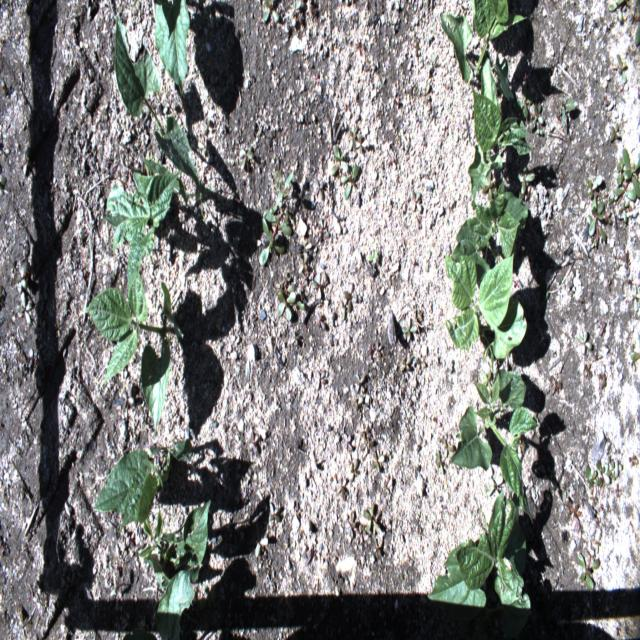crop: (82, 264, 184, 436), (426, 489, 530, 636), (114, 15, 200, 189), (450, 368, 540, 526), (102, 156, 188, 298), (136, 499, 211, 639), (444, 254, 526, 372), (439, 0, 526, 110), (94, 438, 193, 534), (450, 180, 527, 286), (469, 85, 533, 204), (152, 0, 190, 95), (121, 624, 157, 639)
weed: (259, 171, 293, 265), (608, 147, 640, 222), (277, 274, 305, 320), (585, 460, 610, 506), (184, 181, 210, 225), (578, 545, 600, 589), (587, 174, 608, 213), (587, 202, 607, 241), (557, 96, 578, 131), (340, 162, 359, 198), (362, 502, 382, 536), (518, 159, 534, 200), (341, 282, 358, 320), (516, 83, 534, 118), (558, 490, 582, 516), (484, 473, 504, 502), (331, 143, 348, 176), (239, 145, 256, 174), (610, 54, 626, 84), (630, 0, 640, 46), (402, 316, 418, 342), (262, 0, 280, 23), (348, 125, 362, 154), (360, 430, 374, 458), (530, 102, 544, 130), (576, 330, 592, 354), (482, 168, 494, 200), (254, 530, 268, 557), (371, 449, 385, 475), (608, 0, 624, 22), (606, 461, 622, 482), (289, 0, 301, 27), (344, 511, 356, 537), (311, 271, 321, 301), (440, 435, 453, 458), (548, 374, 562, 395), (482, 369, 493, 395), (269, 502, 281, 524), (298, 248, 308, 274), (609, 121, 621, 142), (354, 372, 365, 394), (411, 190, 422, 212), (349, 457, 358, 482), (436, 449, 444, 477), (316, 370, 327, 390), (314, 310, 325, 330), (596, 364, 606, 386), (632, 285, 640, 312), (621, 250, 630, 274), (399, 356, 412, 372), (630, 352, 640, 372), (602, 209, 613, 227), (343, 432, 353, 451), (612, 246, 620, 268), (368, 248, 378, 265), (374, 338, 382, 358), (422, 84, 430, 103), (290, 332, 300, 346), (425, 250, 431, 270), (629, 455, 638, 468), (600, 322, 606, 336), (536, 129, 544, 136)
